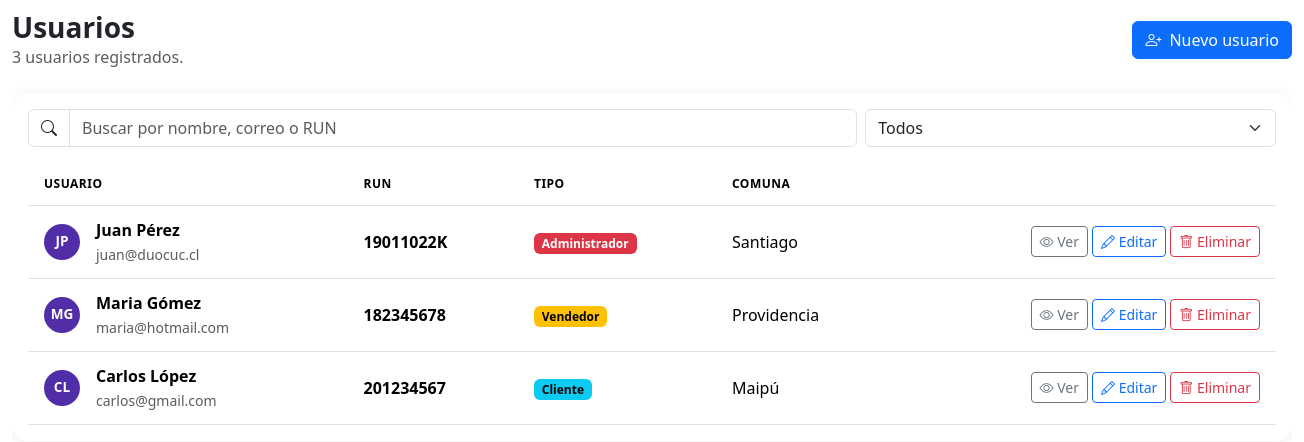
admin/views/UsuariosView › filtra por tipo de usuario
Select "Cliente" in the dropdown named "Filtrar por tipo": x=1071, y=128 [865, 109, 1276, 147]
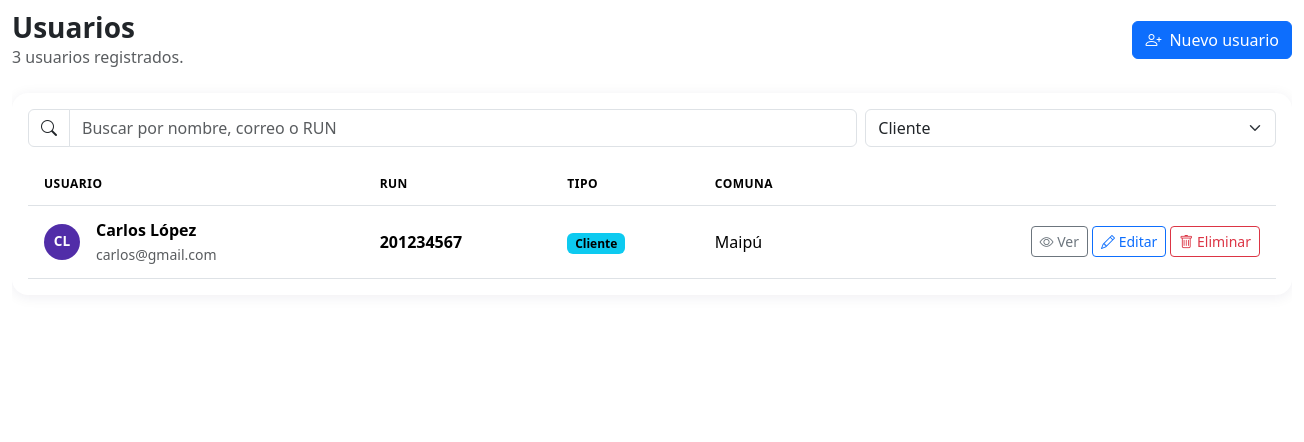
Check: the number of buttons "Eliminar" is 1, box [1170, 226, 1260, 257]
